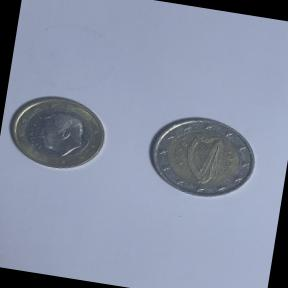coin: (134, 102, 266, 212), (0, 84, 115, 181)
